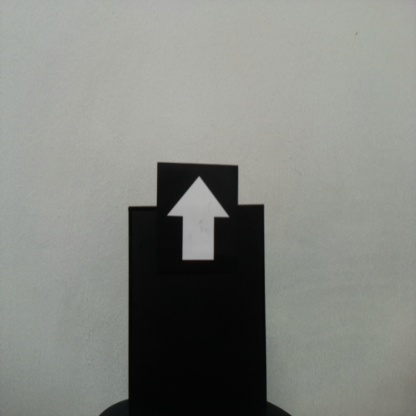id_1: (158, 164, 238, 274)
